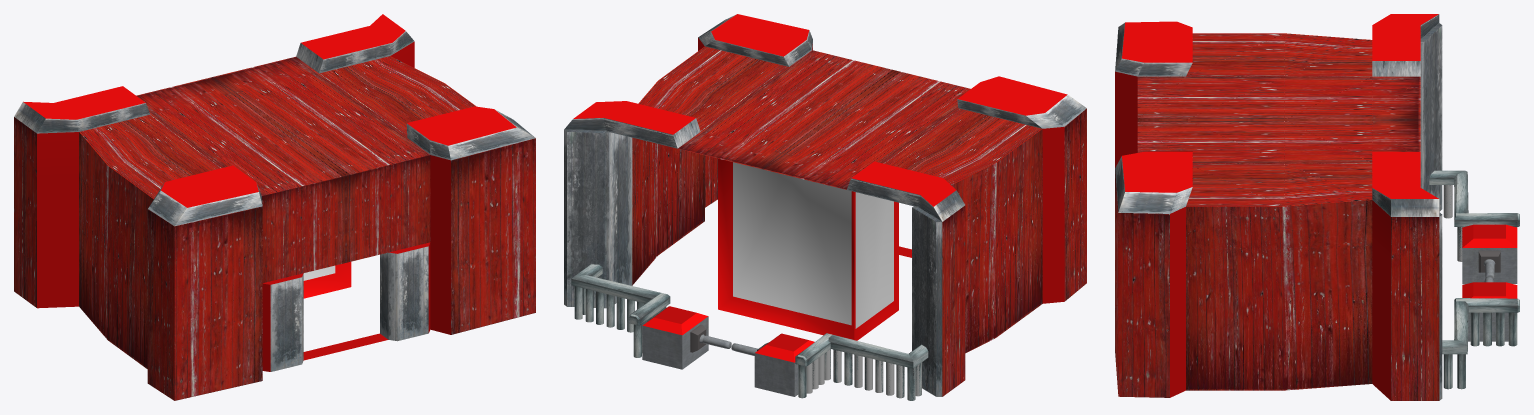
Rendered from STAND final.fbx.
The picture shows the model from 3 angles, left to right: view 1: azimuth 30°, elevation 25°; view 2: azimuth 150°, elevation 25°; view 3: azimuth 270°, elevation 25°; orthographic projection. The views are drawn at different scales.
Parts seen in each view (by area): view 1: pCube1, pCube11; view 2: pCube1, pCube11, polySurface6, polySurface5, pCube2, pCube3; view 3: pCube1, polySurface6, pCube3, polySurface5, pCube2.
Part boxes in pixels (x1=…): pCube1: x1=14, y1=14, x2=535, y2=400; pCube11: x1=303, y1=261, x2=351, y2=298; pCube1: x1=564, y1=14, x2=1086, y2=396; pCube11: x1=718, y1=158, x2=898, y2=340; polySurface6: x1=571, y1=264, x2=670, y2=357; polySurface5: x1=795, y1=333, x2=928, y2=400; pCube2: x1=642, y1=306, x2=708, y2=369; pCube3: x1=754, y1=333, x2=814, y2=396; pCube1: x1=1115, y1=14, x2=1442, y2=400; polySurface6: x1=1442, y1=298, x2=1519, y2=389; pCube3: x1=1462, y1=224, x2=1517, y2=284; polySurface5: x1=1429, y1=170, x2=1519, y2=260; pCube2: x1=1462, y1=282, x2=1517, y2=341.
Bounding box in the file's own units: 20.85 × 9.94 × 18.37.
